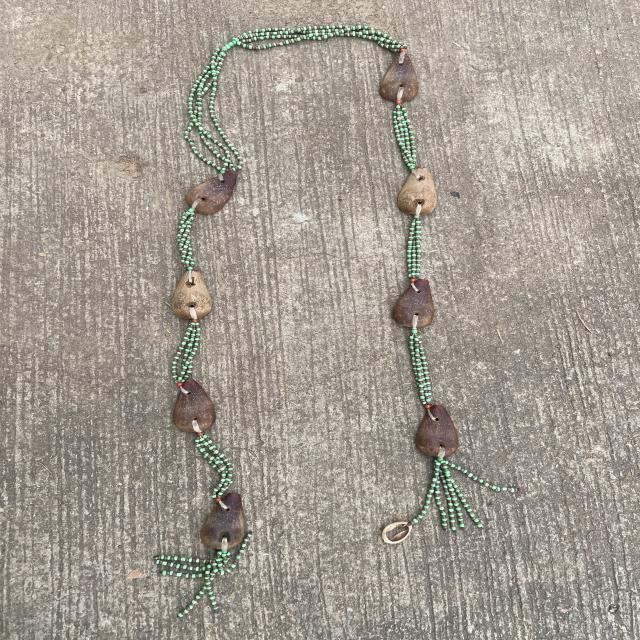facedown: (177, 164, 245, 219), (167, 374, 221, 438), (413, 402, 467, 466), (197, 491, 250, 556), (166, 262, 218, 326), (389, 276, 440, 333), (376, 43, 422, 105), (393, 161, 442, 219)
